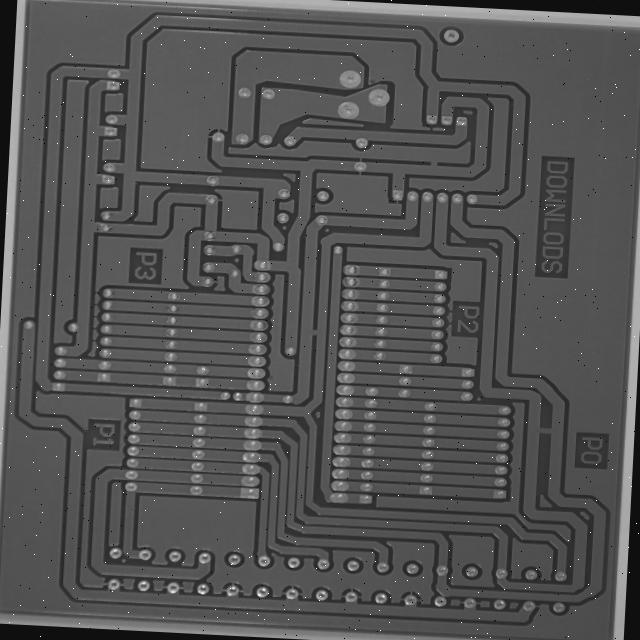short: (595, 397, 637, 435), (474, 108, 516, 135), (341, 292, 376, 323)
